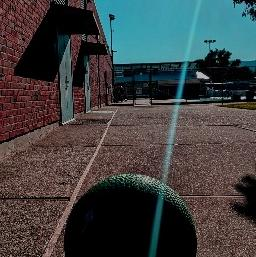algae: (64, 171, 199, 257)
